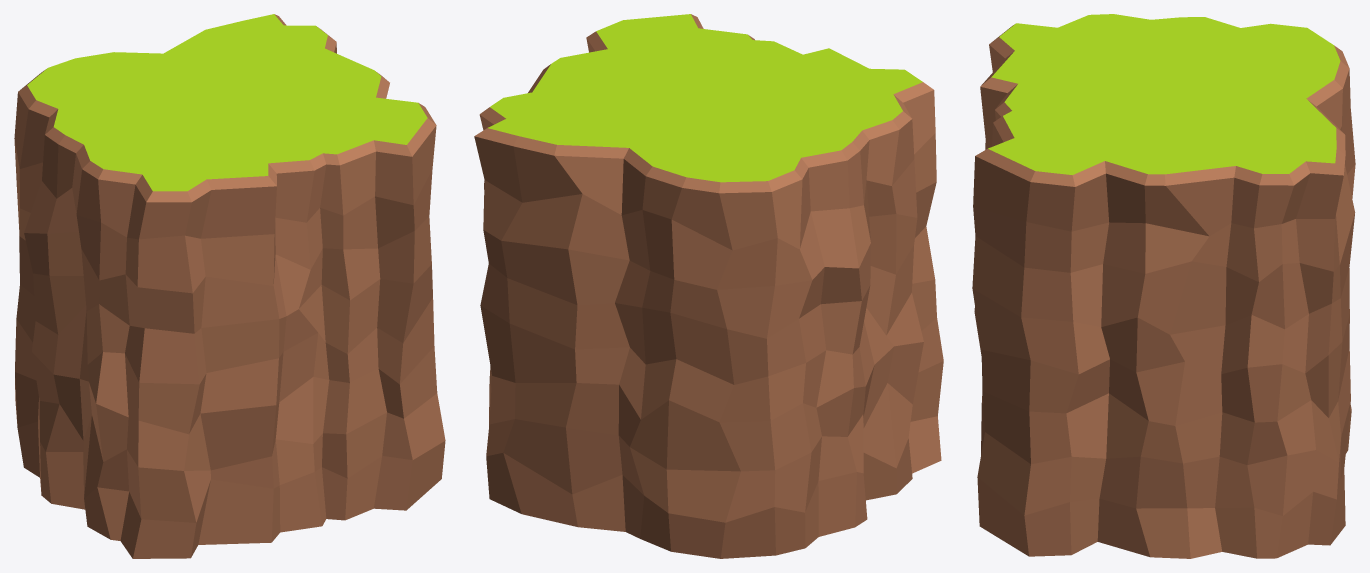
Rendered from Terreno2.fbx.
3 views of the same model, side by side, from view 1: azimuth 30°, elevation 25°; view 2: azimuth 150°, elevation 25°; view 3: azimuth 270°, elevation 25° (orthographic). The views are drawn at different scales.
Parts seen in each view (by area): view 1: Plane; view 2: Plane; view 3: Plane.
Part boxes in pixels (x1,y1,x2,y2): Plane: (14, 14, 445, 558); Plane: (474, 14, 943, 558); Plane: (972, 14, 1355, 558).
Bounding box in the file's own units: 1693 × 1747 × 1580.
